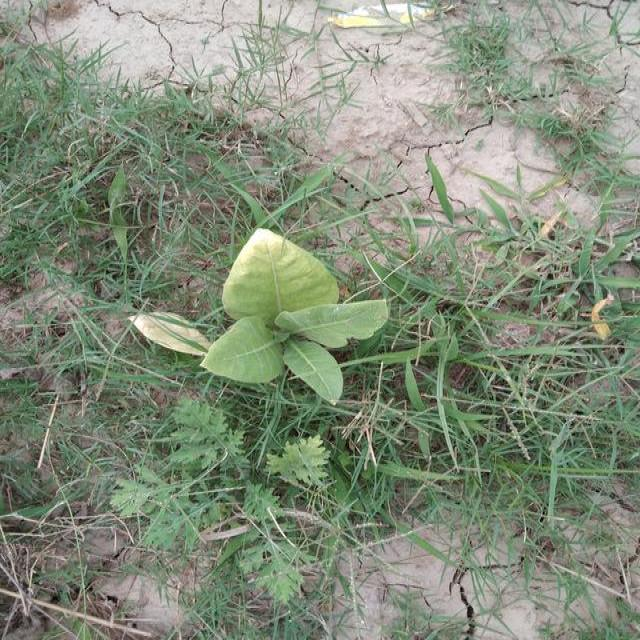crop: (132, 230, 392, 405)
